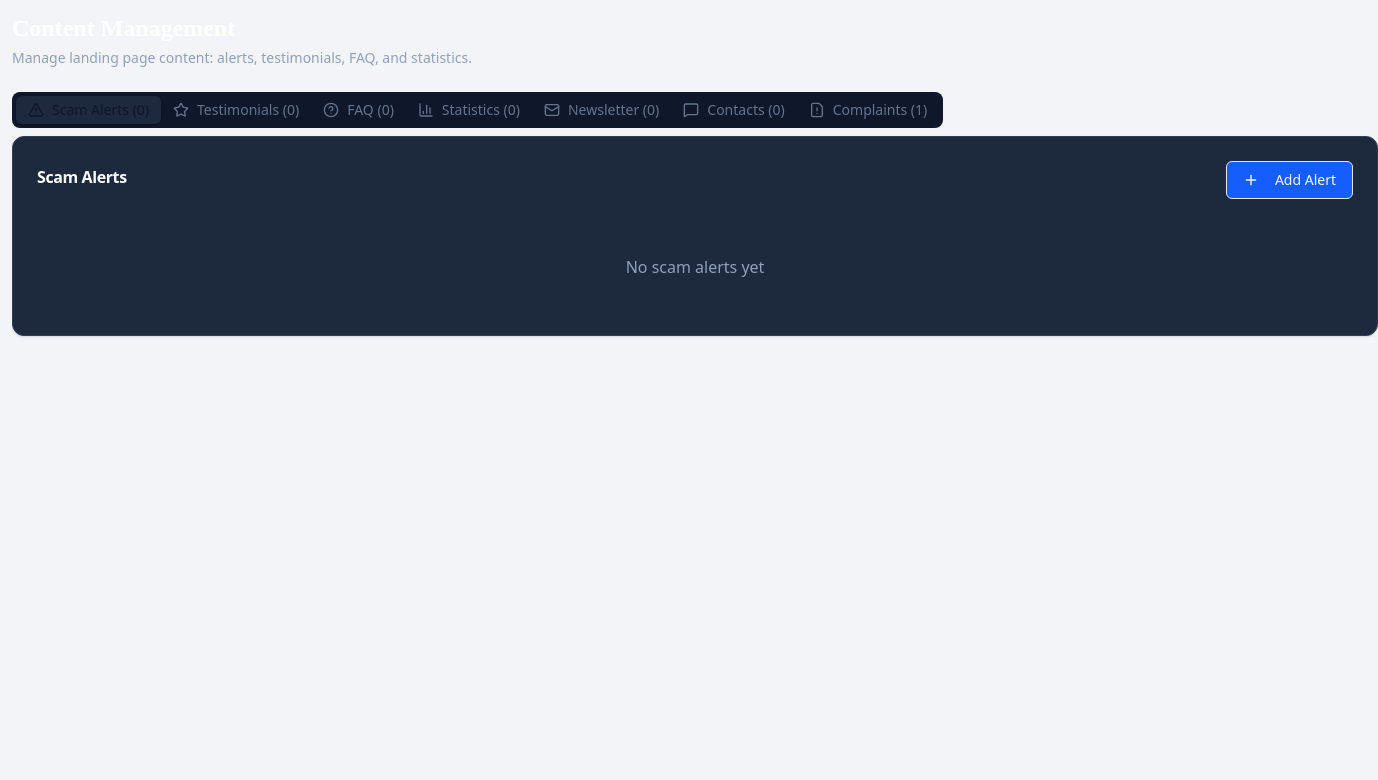
Test: ContentManagement – complaint admin notes editor › pre-fills the textarea with the existing note when Edit is clicked
Click the tab with test id "content-tab-complaints" at (868,110), box [797,96,939,124]
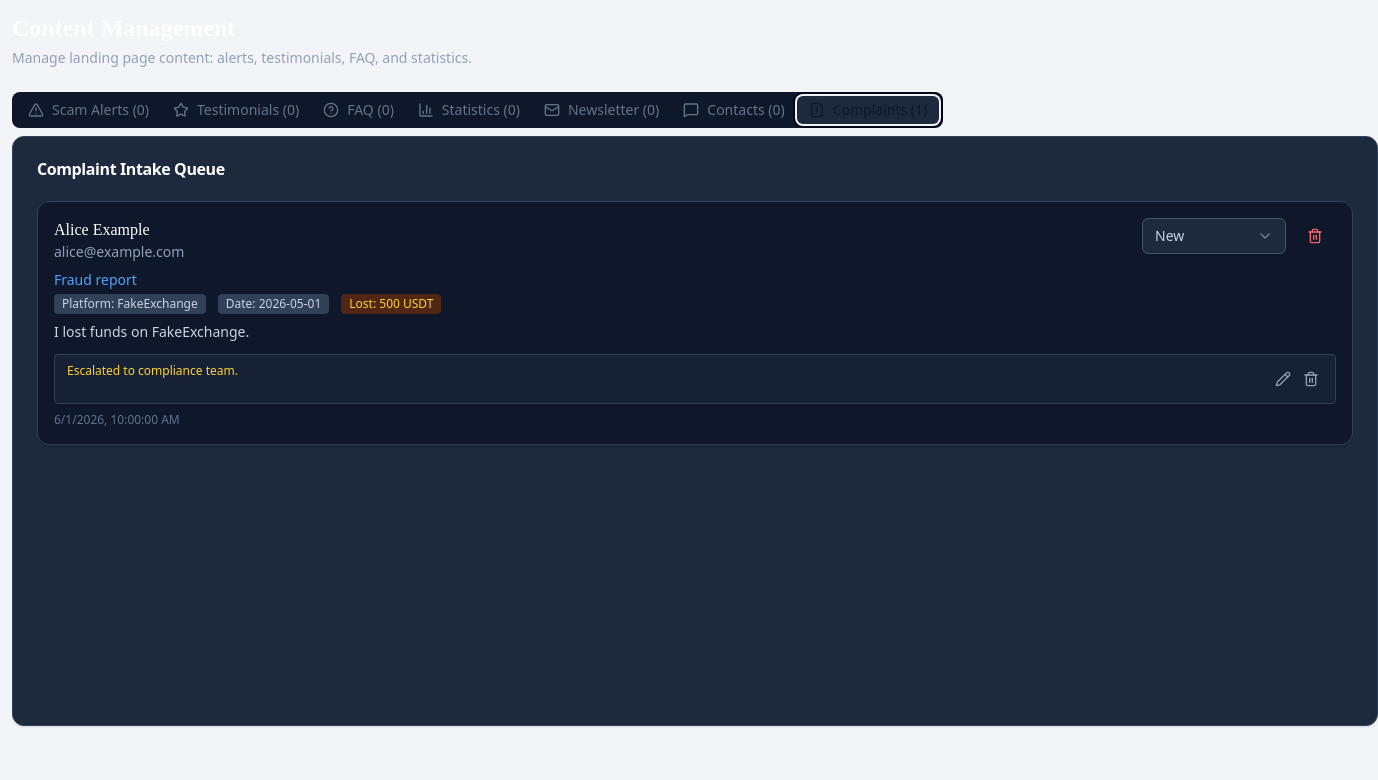
Result: the text with test id "notes-display-1" reads "Escalated to compliance team." at [67,362,238,379]
Click the button named "Edit notes" at (1283,379), box [1271,363,1295,395]
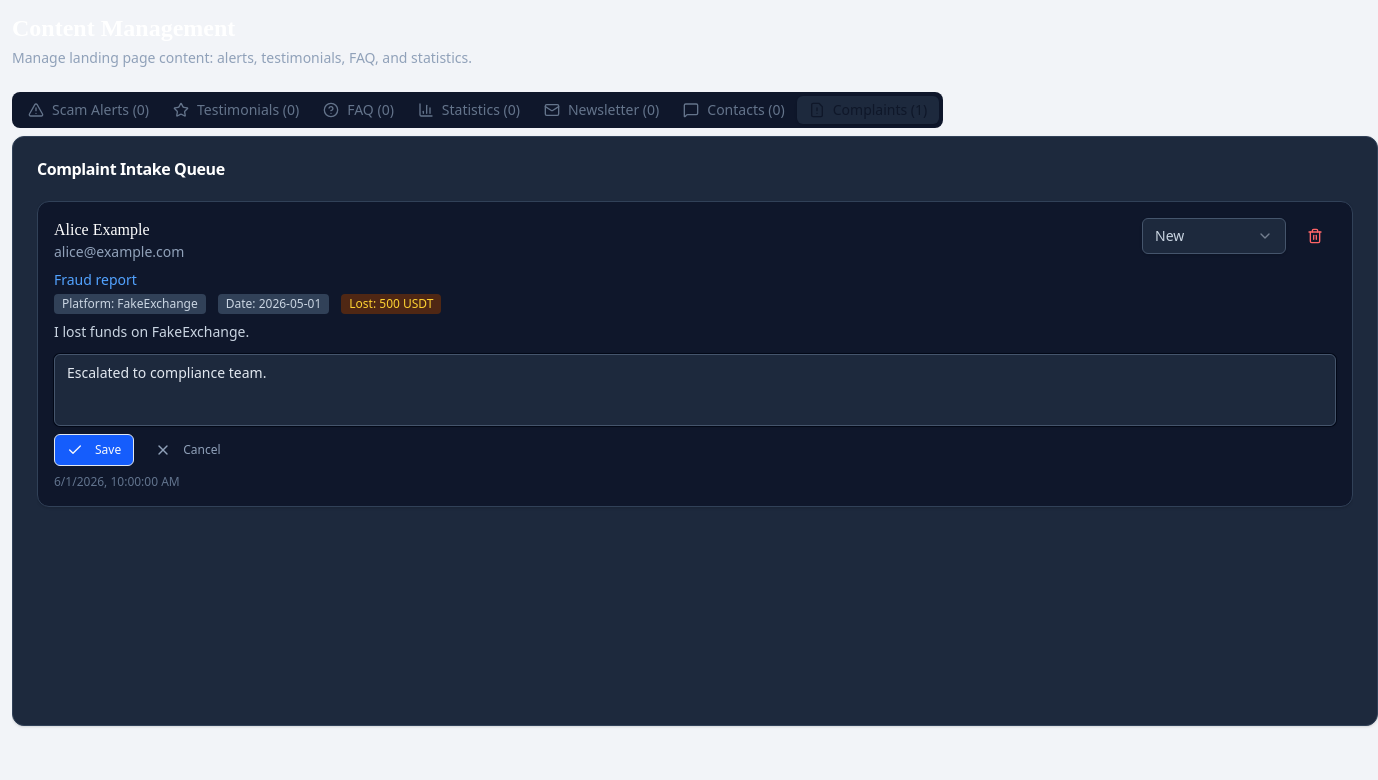
Result: the text with test id "notes-display-1" is gone
